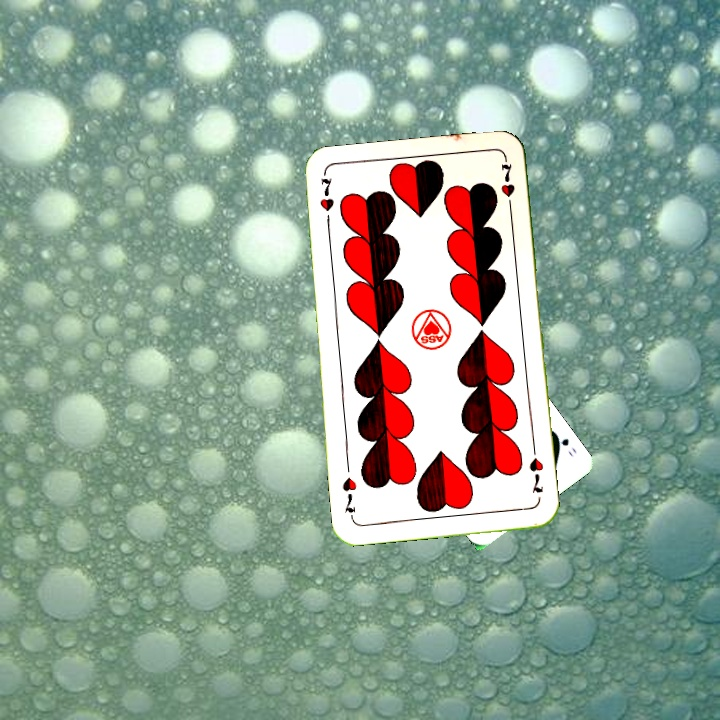GO: (550, 428, 579, 460)
H7: (315, 171, 336, 231), (525, 443, 546, 496)
